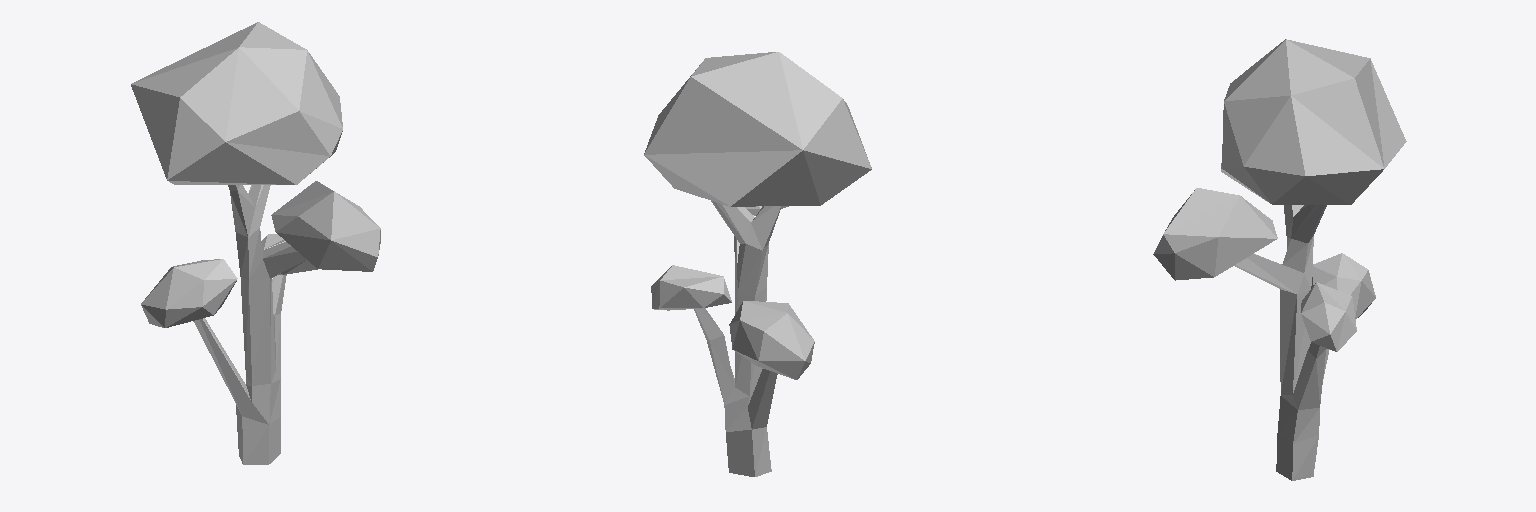
Rendered from Forest_C_Tree_13.obj.
3 views of the same model, side by side, from view 1: azimuth 30°, elevation 25°; view 2: azimuth 150°, elevation 25°; view 3: azimuth 270°, elevation 25° (orthographic).
Visible parts, largest first — view 1: Forest_C_Tree_13; view 2: Forest_C_Tree_13; view 3: Forest_C_Tree_13.
Part boxes in pixels (left/top/right/bottom): Forest_C_Tree_13: left=131, top=22, right=380, bottom=464; Forest_C_Tree_13: left=644, top=52, right=871, bottom=476; Forest_C_Tree_13: left=1153, top=39, right=1406, bottom=480.
Bounding box in the file's own units: 201 × 418 × 229.